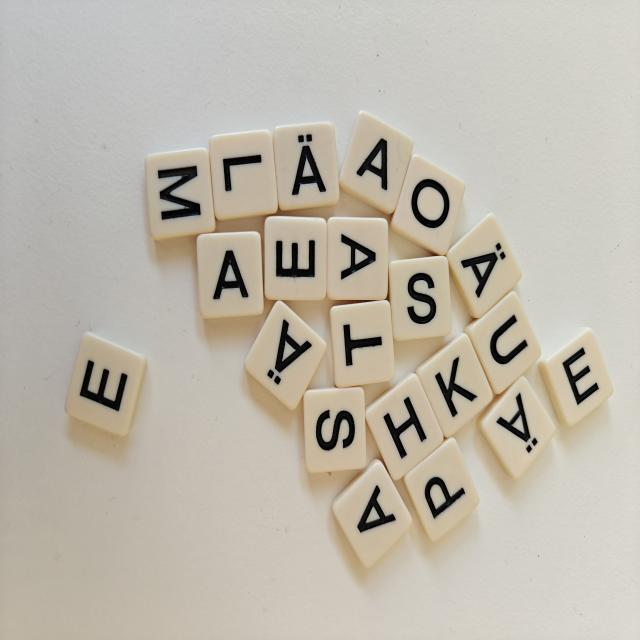a: (332, 459, 412, 567), (339, 111, 413, 214), (197, 231, 263, 318), (327, 217, 388, 300)
a_dot: (245, 301, 326, 410), (477, 376, 555, 479), (446, 214, 521, 318), (273, 122, 339, 210)
e: (65, 333, 146, 435), (538, 328, 613, 426), (264, 216, 327, 300)
h: (365, 374, 444, 480)
k: (415, 333, 493, 437)
l: (209, 130, 278, 220)
m: (145, 148, 216, 240)
o: (390, 155, 465, 255)
p: (403, 437, 479, 541)
s: (388, 256, 451, 341), (304, 387, 366, 473)
t: (330, 300, 395, 387)
u: (465, 291, 540, 394)
